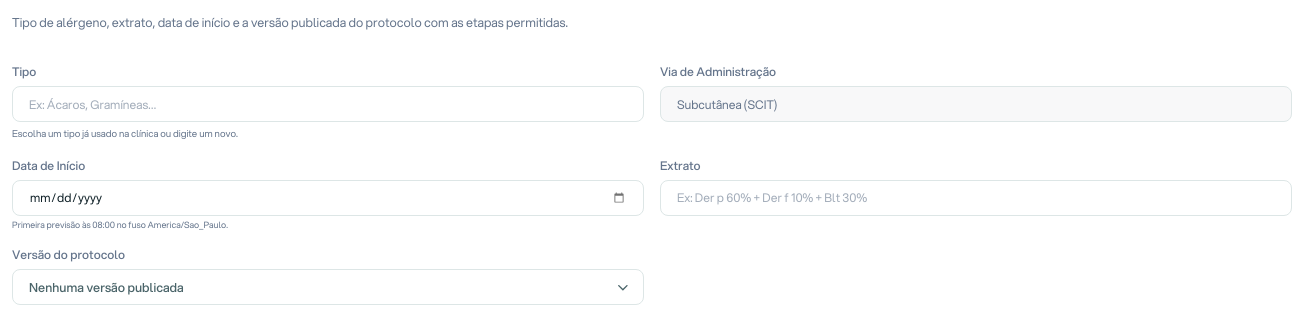
Test case: tipos de imunoterapia pela fonte do servidor › wizard: lista os tipos do servidor e aceita seleção
Click the dropdown with placeholder "Ex: Ácaros, Gramíneas…": coordinates (328, 104) 12,86 -> 644,122
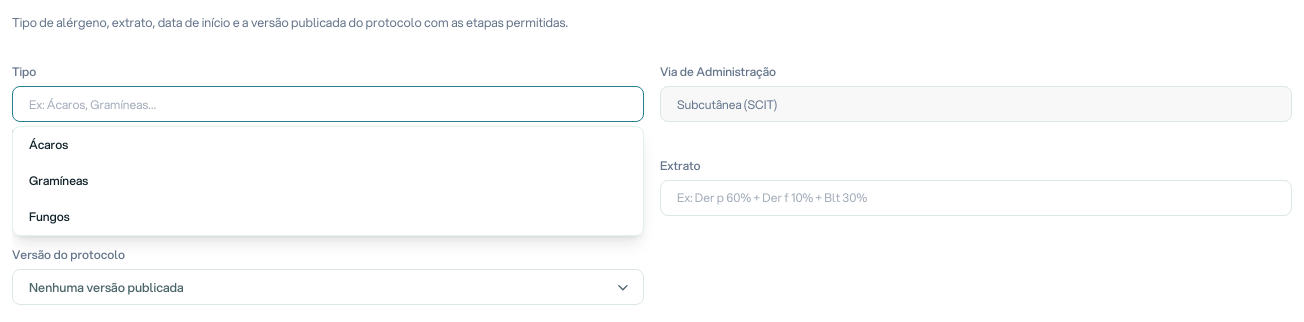
Check: the option "Ácaros" is shown, box 13,127 -> 643,163
Check: the option "Gramíneas" is shown
Check: the option "Fungos" is shown, box 13,199 -> 643,235
Click the option "Gramíneas": coordinates (59, 181) 13,163 -> 643,199
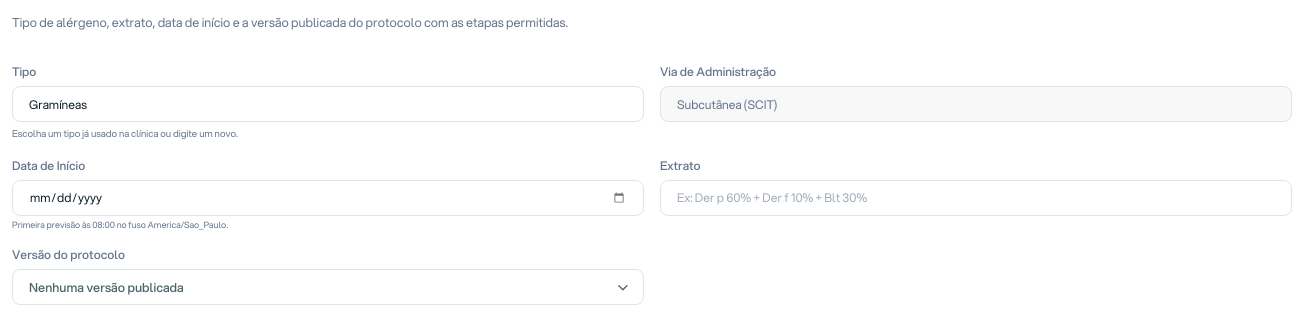
Check: the 1st dropdown with placeholder "Ex: Ácaros, Gramíneas…" holds "Gramíneas", box 12,86 -> 644,122
